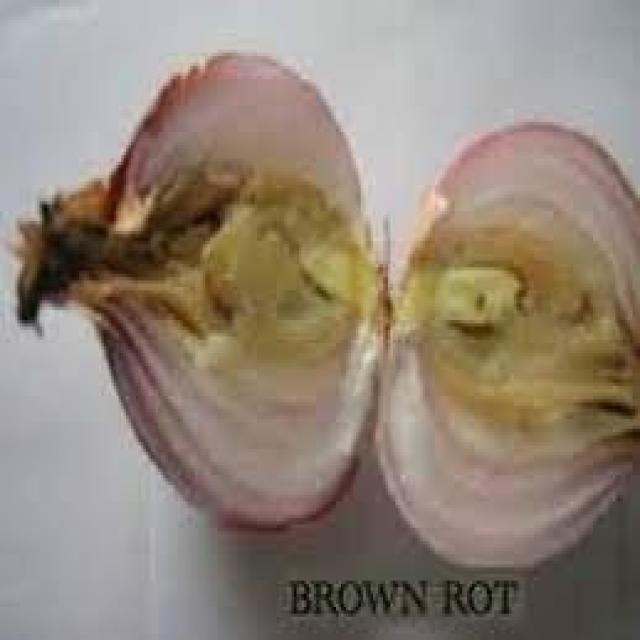Onion: (0, 49, 381, 534), (373, 120, 638, 572)
